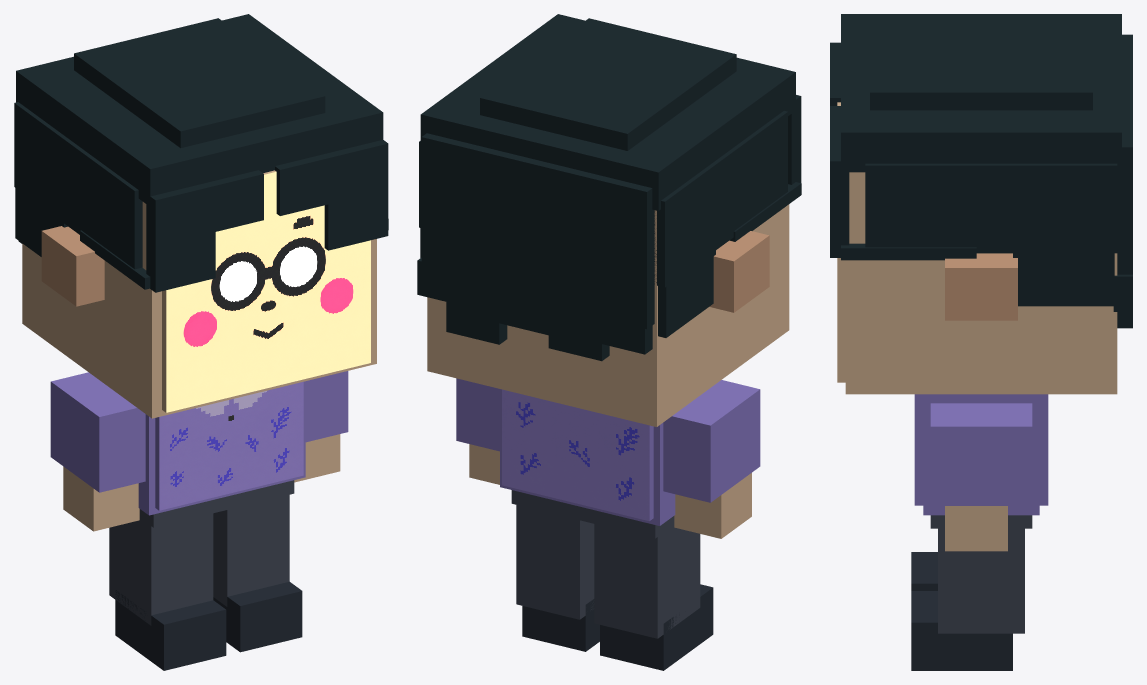
File: yametaro.glb
3 renders of one model, left to right at view 1: azimuth 30°, elevation 25°; view 2: azimuth 150°, elevation 25°; view 3: azimuth 270°, elevation 25°, orthographic. The views are drawn at different scales.
Visible parts, largest first — view 1: YametaroVoxel_Root_MobileMesh, VoxelRig_LegLeft_MobileMesh, VoxelRig_ArmSecondary_MobileMesh, VoxelRig_LegRight_MobileMesh, VoxelRig_ArmPrimary_MobileMesh; view 2: YametaroVoxel_Root_MobileMesh, VoxelRig_LegLeft_MobileMesh, VoxelRig_ArmSecondary_MobileMesh, VoxelRig_LegRight_MobileMesh, VoxelRig_ArmPrimary_MobileMesh; view 3: YametaroVoxel_Root_MobileMesh, VoxelRig_ArmPrimary_MobileMesh, VoxelRig_LegRight_MobileMesh, VoxelRig_LegLeft_MobileMesh.
Boxes of the visible parts, x1=… form: YametaroVoxel_Root_MobileMesh: x1=14, y1=14, x2=388, y2=527; VoxelRig_LegLeft_MobileMesh: x1=109, y1=513, x2=226, y2=670; VoxelRig_ArmSecondary_MobileMesh: x1=50, y1=372, x2=145, y2=531; VoxelRig_LegRight_MobileMesh: x1=213, y1=494, x2=302, y2=652; VoxelRig_ArmPrimary_MobileMesh: x1=294, y1=371, x2=348, y2=482; YametaroVoxel_Root_MobileMesh: x1=417, y1=14, x2=801, y2=538; VoxelRig_LegLeft_MobileMesh: x1=594, y1=524, x2=713, y2=670; VoxelRig_ArmSecondary_MobileMesh: x1=663, y1=380, x2=760, y2=538; VoxelRig_LegRight_MobileMesh: x1=516, y1=505, x2=599, y2=651; VoxelRig_ArmPrimary_MobileMesh: x1=456, y1=378, x2=499, y2=484; YametaroVoxel_Root_MobileMesh: x1=830, y1=14, x2=1132, y2=528; VoxelRig_ArmPrimary_MobileMesh: x1=930, y1=403, x2=1032, y2=551; VoxelRig_LegRight_MobileMesh: x1=911, y1=528, x2=1024, y2=670; VoxelRig_LegLeft_MobileMesh: x1=911, y1=552, x2=937, y2=590.
Size of the model in its own units: 1.4 by 2.64 by 1.25.
Materials: 4 (3 with a texture image).
